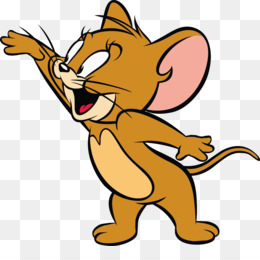jerry: (1, 1, 260, 246)
